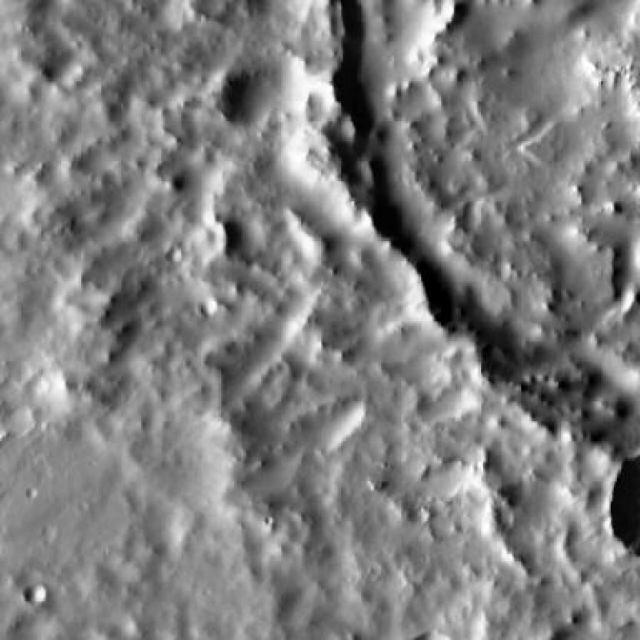crater: (340, 0, 640, 489), (24, 586, 47, 608)
